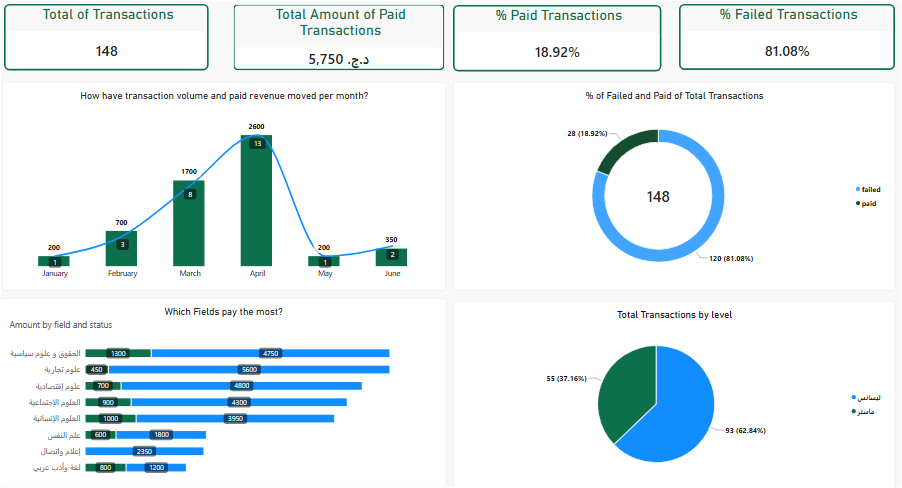

What the dashboard file says about the page in this screenshot:
{"tool":"powerbi","page":{"name":"Dashboard","canvas":[1920,1080],"ordinal":0},"visuals":[{"type":"cardVisual","title":"Total of Transactions","fields":{"Data":["orders_rows.Total Transactions"]},"box":[251.2,174.4,379.1,123.3],"z":0},{"type":"cardVisual","title":"Total Amount of Paid Transactions","fields":{"Data":["orders_rows.Paid Amounts"]},"box":[676.7,174.4,392,123],"z":1000},{"type":"cardVisual","title":"% Paid Transactions","fields":{"Data":["orders_rows.% of Paid Transactions"]},"box":[1084.2,175.1,386,123.3],"z":2000},{"type":"cardVisual","title":"% Failed Transactions","fields":{"Data":["orders_rows.% of Failed Transactions"]},"box":[1502.3,174.4,400,122.2],"z":3000},{"type":"donutChart","title":"% of Failed and Paid of Total Transactions","fields":{"Y":["orders_rows.Total Transactions"],"Category":["orders_rows.status"]},"box":[1083.7,318.6,818.6,386],"z":4000},{"type":"lineStackedColumnComboChart","title":"How have transaction volume and paid revenue moved per month?","fields":{"Y":["orders_rows.Paid Amounts"],"Category":["orders_rows.created_at.Variation.Date Hierarchy.Month"],"Y2":["orders_rows.Total Paid Transactions"]},"box":[248.1,319,821.6,386.1],"z":5000},{"type":"textbox","box":[250,50,1107.1,95.9],"z":6000},{"type":"shape","box":[248.1,50,1223.9,108.4],"z":7000},{"type":"barChart","title":"Which Fields pay the most?","fields":{"Category":["orders_rows.field"],"Series":["orders_rows.status"],"Y":["Sum(orders_rows.amount)"]},"box":[243.9,719.3,826.7,351.1],"z":8000},{"type":"pieChart","fields":{"Category":["orders_rows.level"],"Y":["orders_rows.Total Transactions"]},"box":[1083.7,723.3,818.6,346.5],"z":9000},{"type":"image","box":[1294.7,73,92.3,73.1],"z":10000},{"type":"actionButton","box":[0,49.5,125,75.3],"z":13000}]}

Visuals, with their boxes on the page's 1920x1080 design canvas (x1, y1, x2, y2). These are canvas units, not pixel positions in the 902x488 screenshot, which may show the page scaled, cropped or inside an application window:
"Total of Transactions" cardVisual: 251,174,630,298
"Total Amount of Paid Transactions" cardVisual: 677,174,1069,297
"% Paid Transactions" cardVisual: 1084,175,1470,298
"% Failed Transactions" cardVisual: 1502,174,1902,297
"% of Failed and Paid of Total Transactions" donutChart: 1084,319,1902,705
"How have transaction volume and paid revenue moved per month?" lineStackedColumnComboChart: 248,319,1070,705
textbox: 250,50,1357,146
shape: 248,50,1472,158
"Which Fields pay the most?" barChart: 244,719,1071,1070
pieChart - orders_rows.level x orders_rows.Total Transactions: 1084,723,1902,1070
image: 1295,73,1387,146
actionButton: 0,50,125,125
